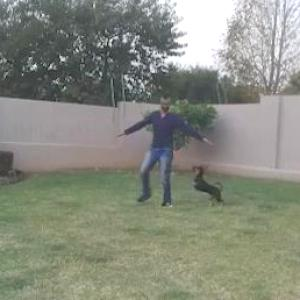land: (136, 92, 221, 193)
